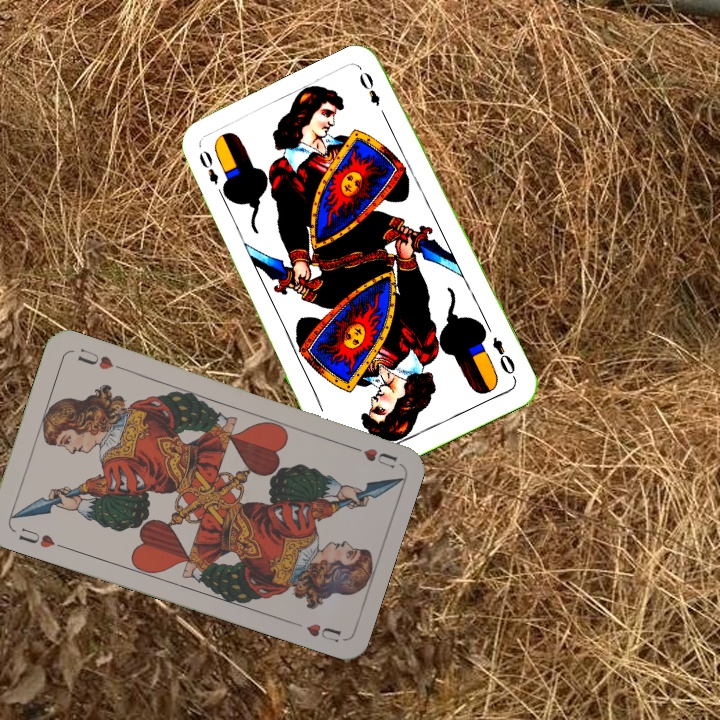EO: (195, 146, 229, 200), (488, 333, 519, 382)
HU: (343, 440, 400, 471), (14, 523, 67, 551)
